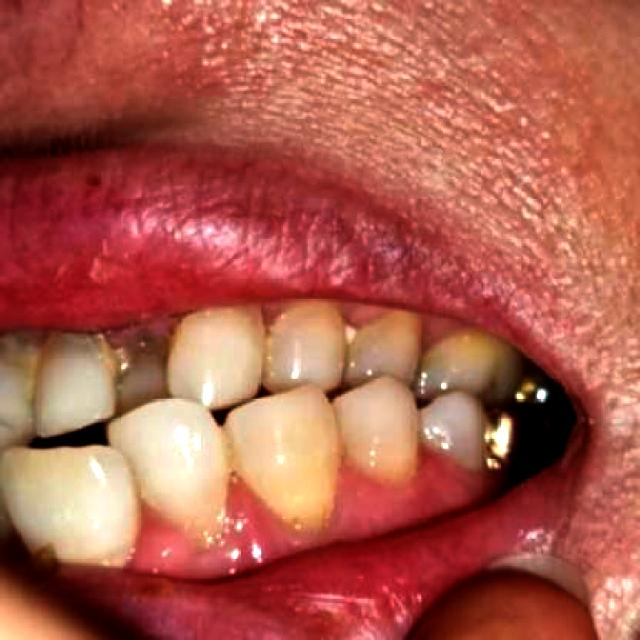Plaque: (220, 477, 287, 549), (325, 456, 391, 526), (126, 505, 189, 562), (104, 318, 184, 360), (410, 444, 472, 491), (419, 319, 465, 350), (262, 302, 298, 335), (336, 309, 380, 330)
